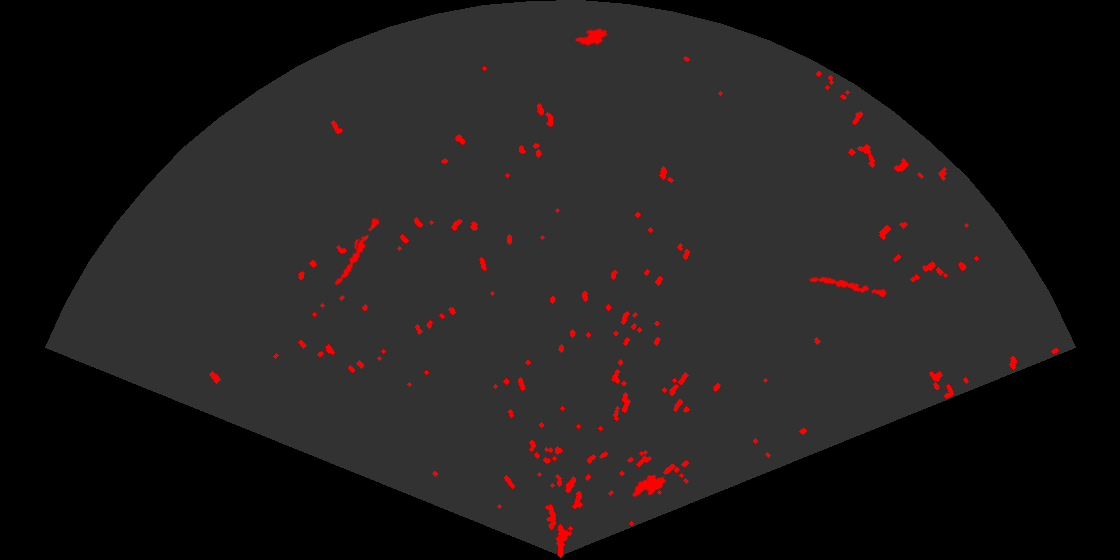AUV: (630, 473, 668, 499), (573, 27, 609, 47)
chain: (333, 213, 383, 287), (807, 275, 891, 299)
